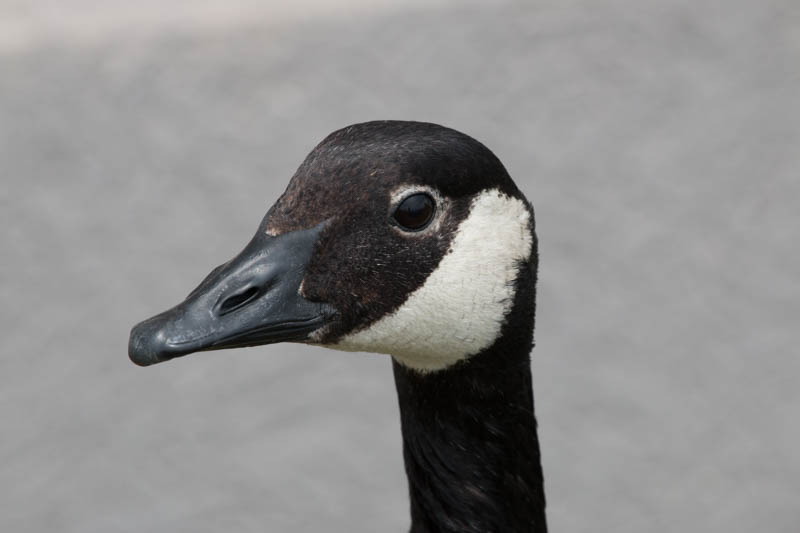goose-head: (128, 120, 539, 373)
